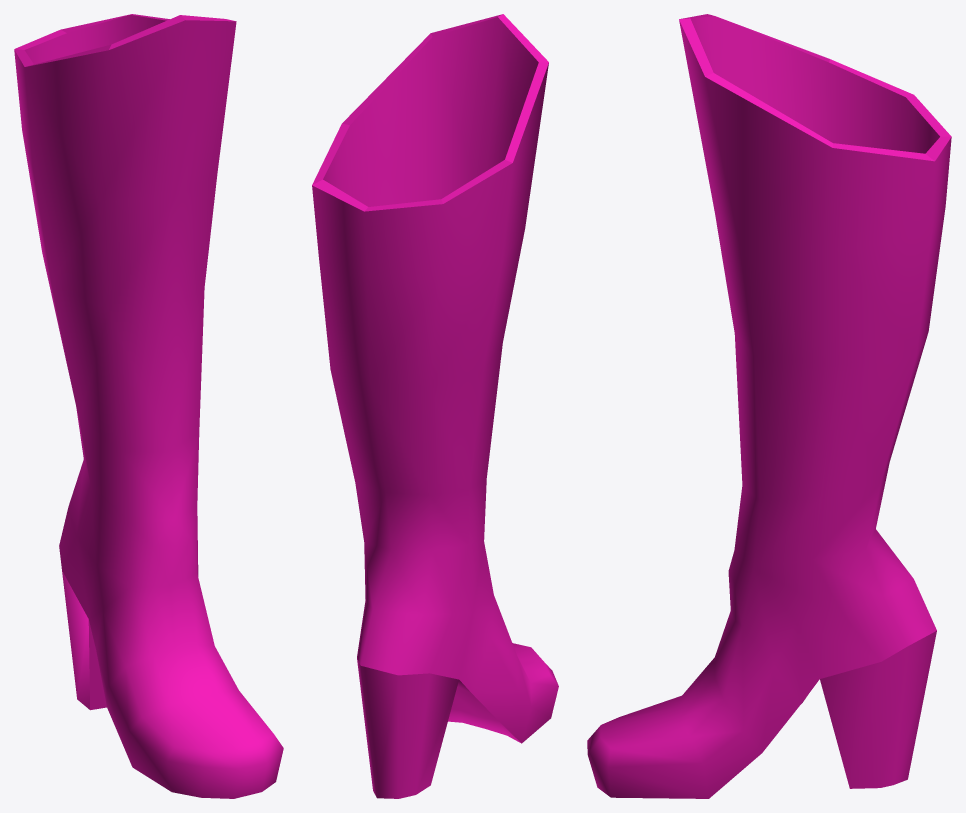
The model's file is shoe_3.fbx.
3 renders of one model, left to right at view 1: azimuth 30°, elevation 25°; view 2: azimuth 150°, elevation 25°; view 3: azimuth 270°, elevation 25°, orthographic. The views are drawn at different scales.
Parts seen in each view (by area): view 1: shoe_3; view 2: shoe_3; view 3: shoe_3.
Boxes of the visible parts, x1,y1,x2,y2 form: shoe_3: [14, 14, 283, 798]; shoe_3: [312, 14, 558, 798]; shoe_3: [587, 14, 951, 798].
Size of the model in its own units: 10.92 by 43.66 by 19.17.
1 material, 1 textured.
